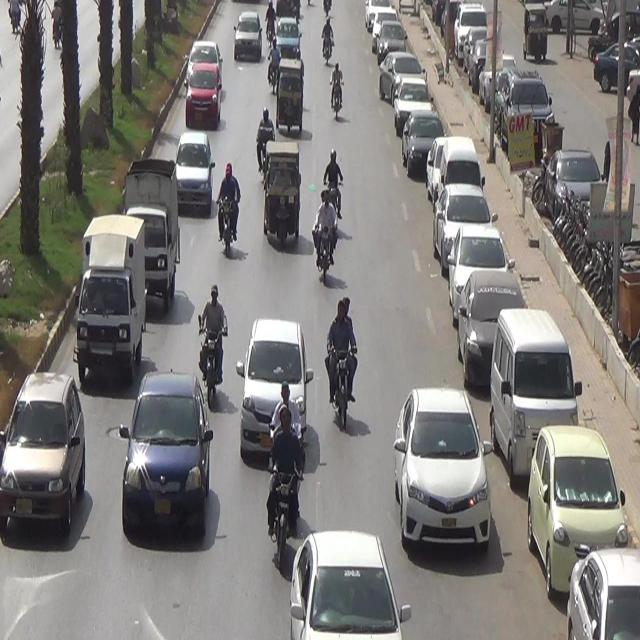car: (380, 397, 495, 555), (114, 368, 211, 550), (0, 373, 85, 543), (281, 539, 409, 640), (236, 323, 313, 449), (175, 140, 212, 212), (184, 57, 222, 120), (235, 16, 267, 64), (275, 19, 302, 66), (192, 37, 220, 71)
motorbike: (270, 372, 304, 558), (324, 300, 372, 431), (196, 288, 227, 418), (211, 154, 243, 258), (310, 186, 336, 273), (250, 104, 278, 169), (320, 151, 344, 219), (316, 17, 339, 80), (328, 63, 348, 134)
truck: (66, 224, 146, 372), (117, 149, 185, 311)
